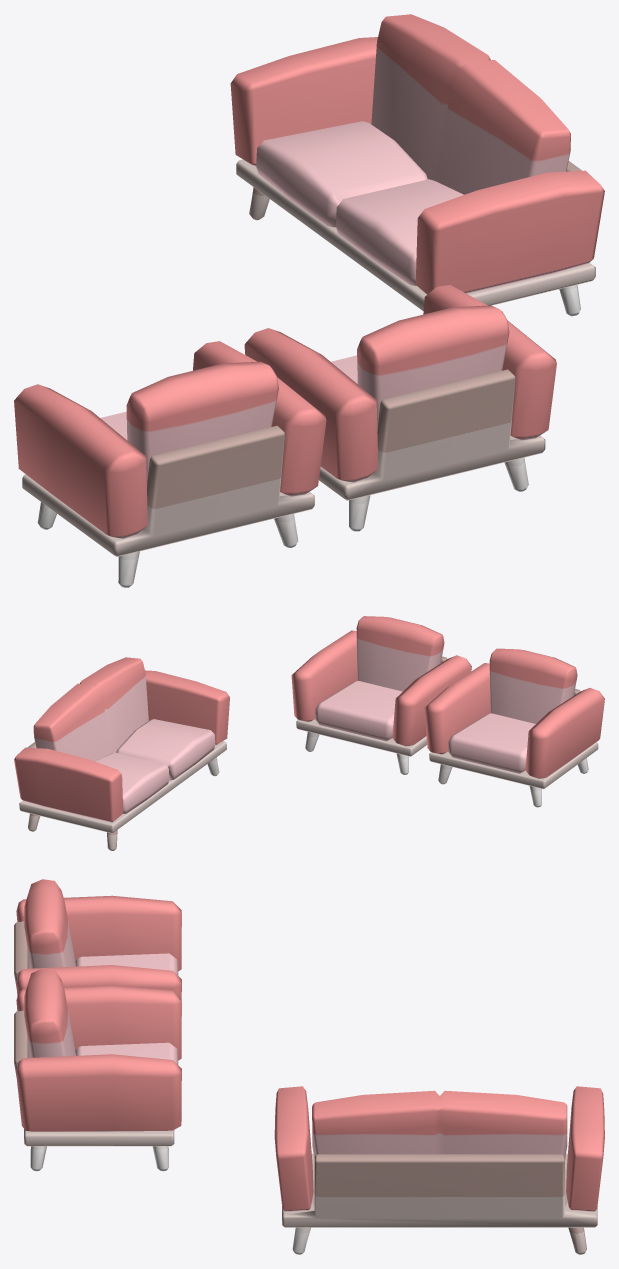
File: sofa_set_1.fbx
3 renders of one model, top to bottom at view 1: azimuth 30°, elevation 25°; view 2: azimuth 150°, elevation 25°; view 3: azimuth 270°, elevation 25°, orthographic. The views are drawn at different scales.
Parts seen in each view (by area): view 1: sofa_set_1; view 2: sofa_set_1; view 3: sofa_set_1.
Boxes of the visible parts, x1,y1,x2,y2 form: sofa_set_1: (14, 14, 604, 587); sofa_set_1: (14, 616, 604, 850); sofa_set_1: (14, 879, 604, 1254).
Size of the model in its own units: 684 by 193 by 663.
